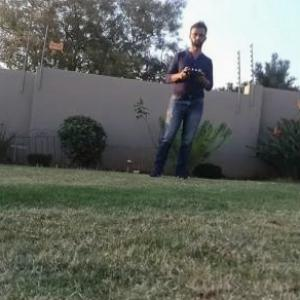follow: (142, 14, 215, 183)
